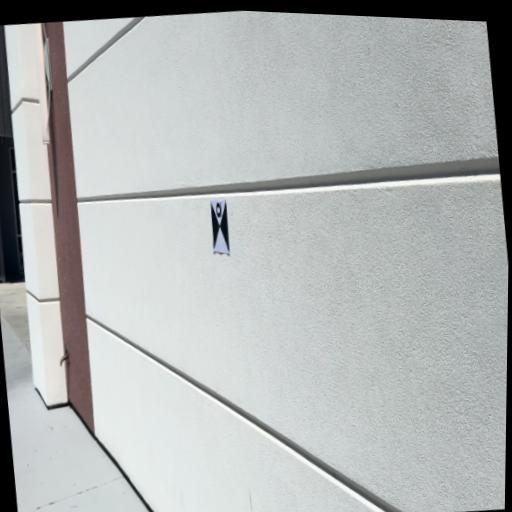target0: (211, 199, 230, 254)
